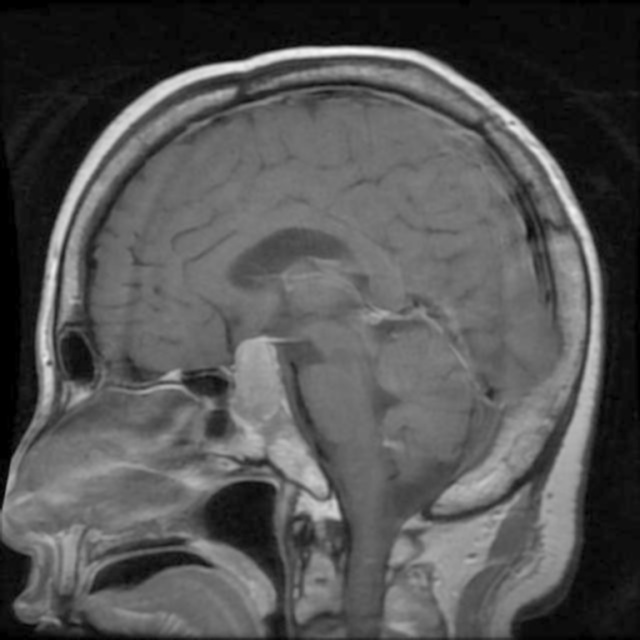no tumor: (226, 338, 289, 432)
